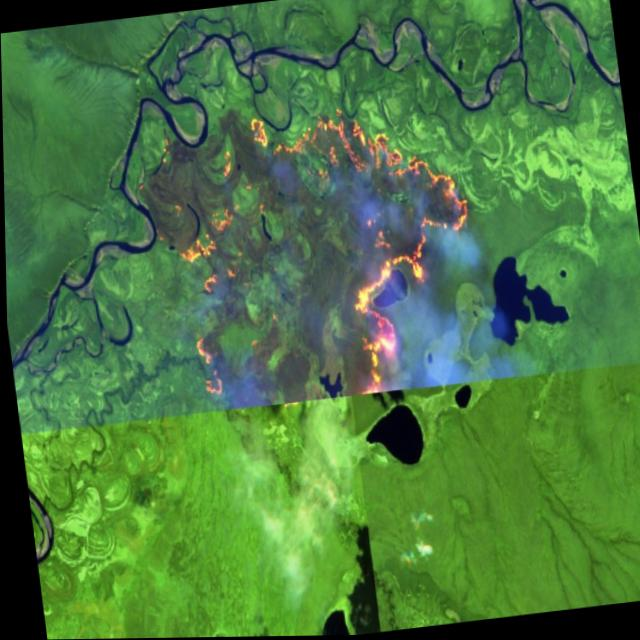fire: (147, 88, 494, 419)
